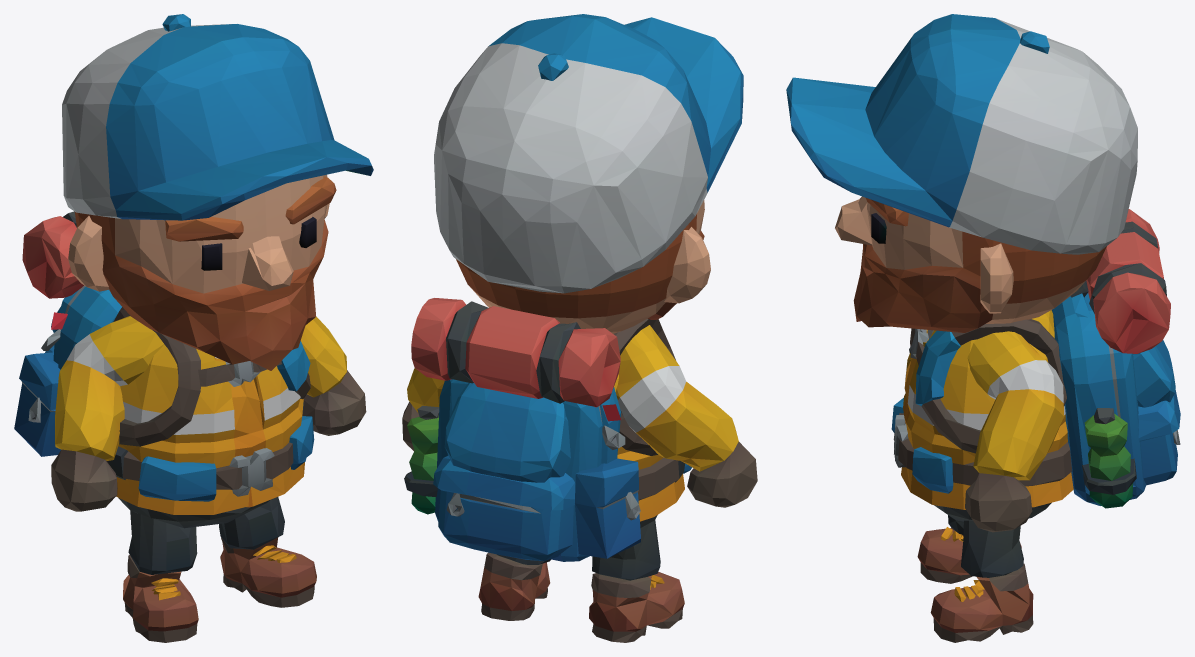
Rendered from hiker.glb.
3 views of the same model, side by side, from view 1: azimuth 30°, elevation 25°; view 2: azimuth 150°, elevation 25°; view 3: azimuth 270°, elevation 25° (orthographic). The views are drawn at different scales.
Parts seen in each view (by area): view 1: hiker; view 2: hiker; view 3: hiker.
Boxes of the visible parts, x1=… form: hiker: x1=14, y1=14, x2=373, y2=642; hiker: x1=402, y1=14, x2=757, y2=642; hiker: x1=786, y1=14, x2=1180, y2=642.
Bounding box in the file's own units: 0.5731 × 1 × 0.6291.
